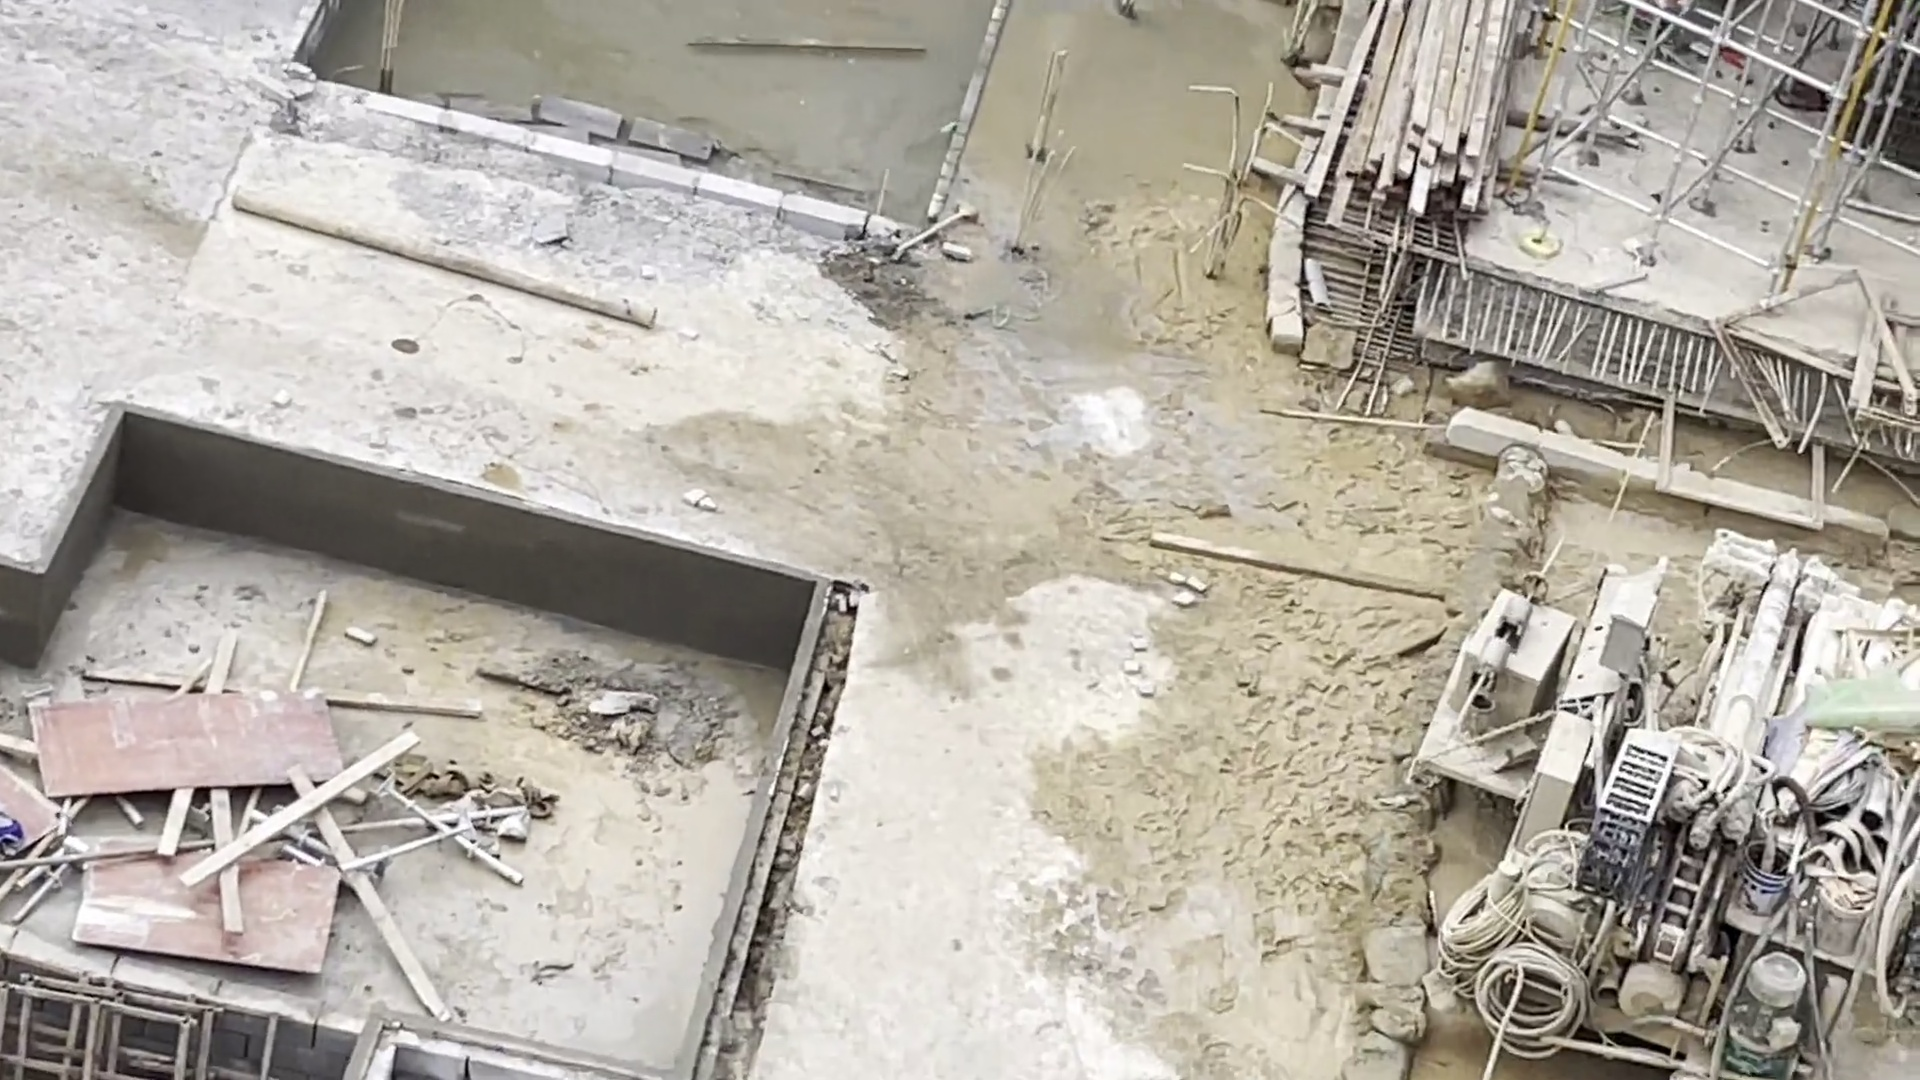wood: (1295, 1, 1513, 229)
